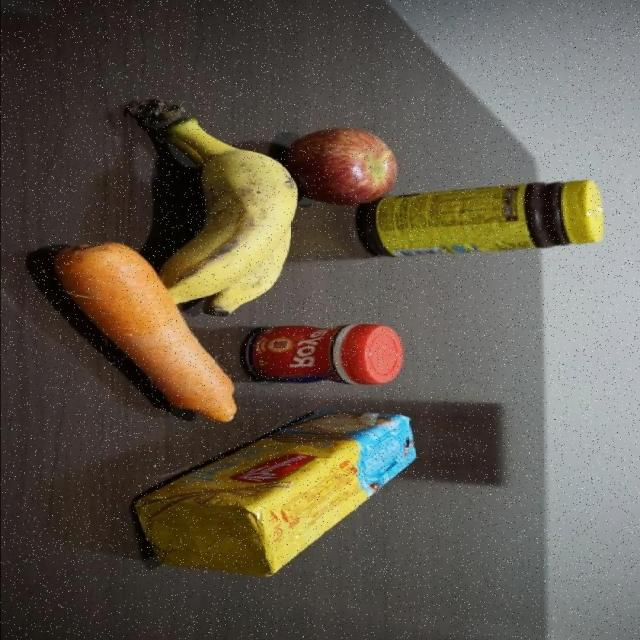Apple: (301, 123, 398, 204)
Banana: (156, 92, 296, 309)
Carrot: (101, 316, 246, 416)
ChocolatePowder: (422, 180, 607, 256)
Cracker: (135, 416, 423, 577)
Yeast: (246, 322, 404, 386)
